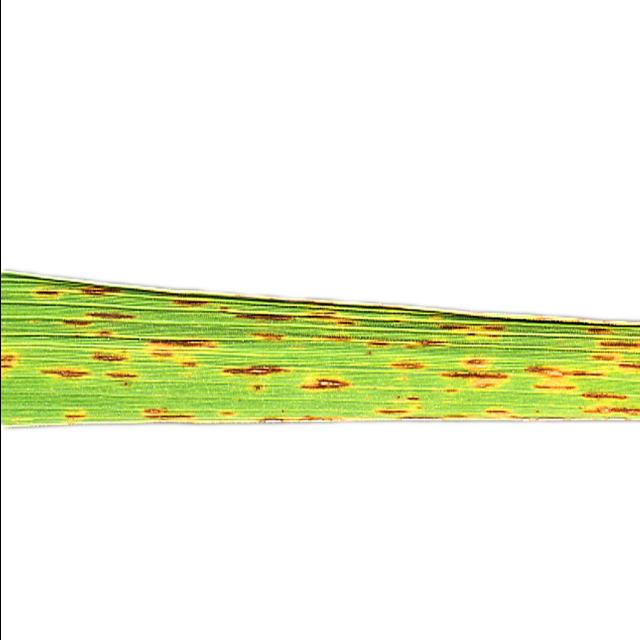Narrow brown: (1, 170, 640, 483)
